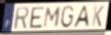A: (72, 5, 91, 29)
E: (29, 7, 45, 30)
G: (60, 6, 75, 30)
K: (91, 5, 105, 28)
M: (42, 6, 62, 29)
R: (13, 7, 30, 31)
